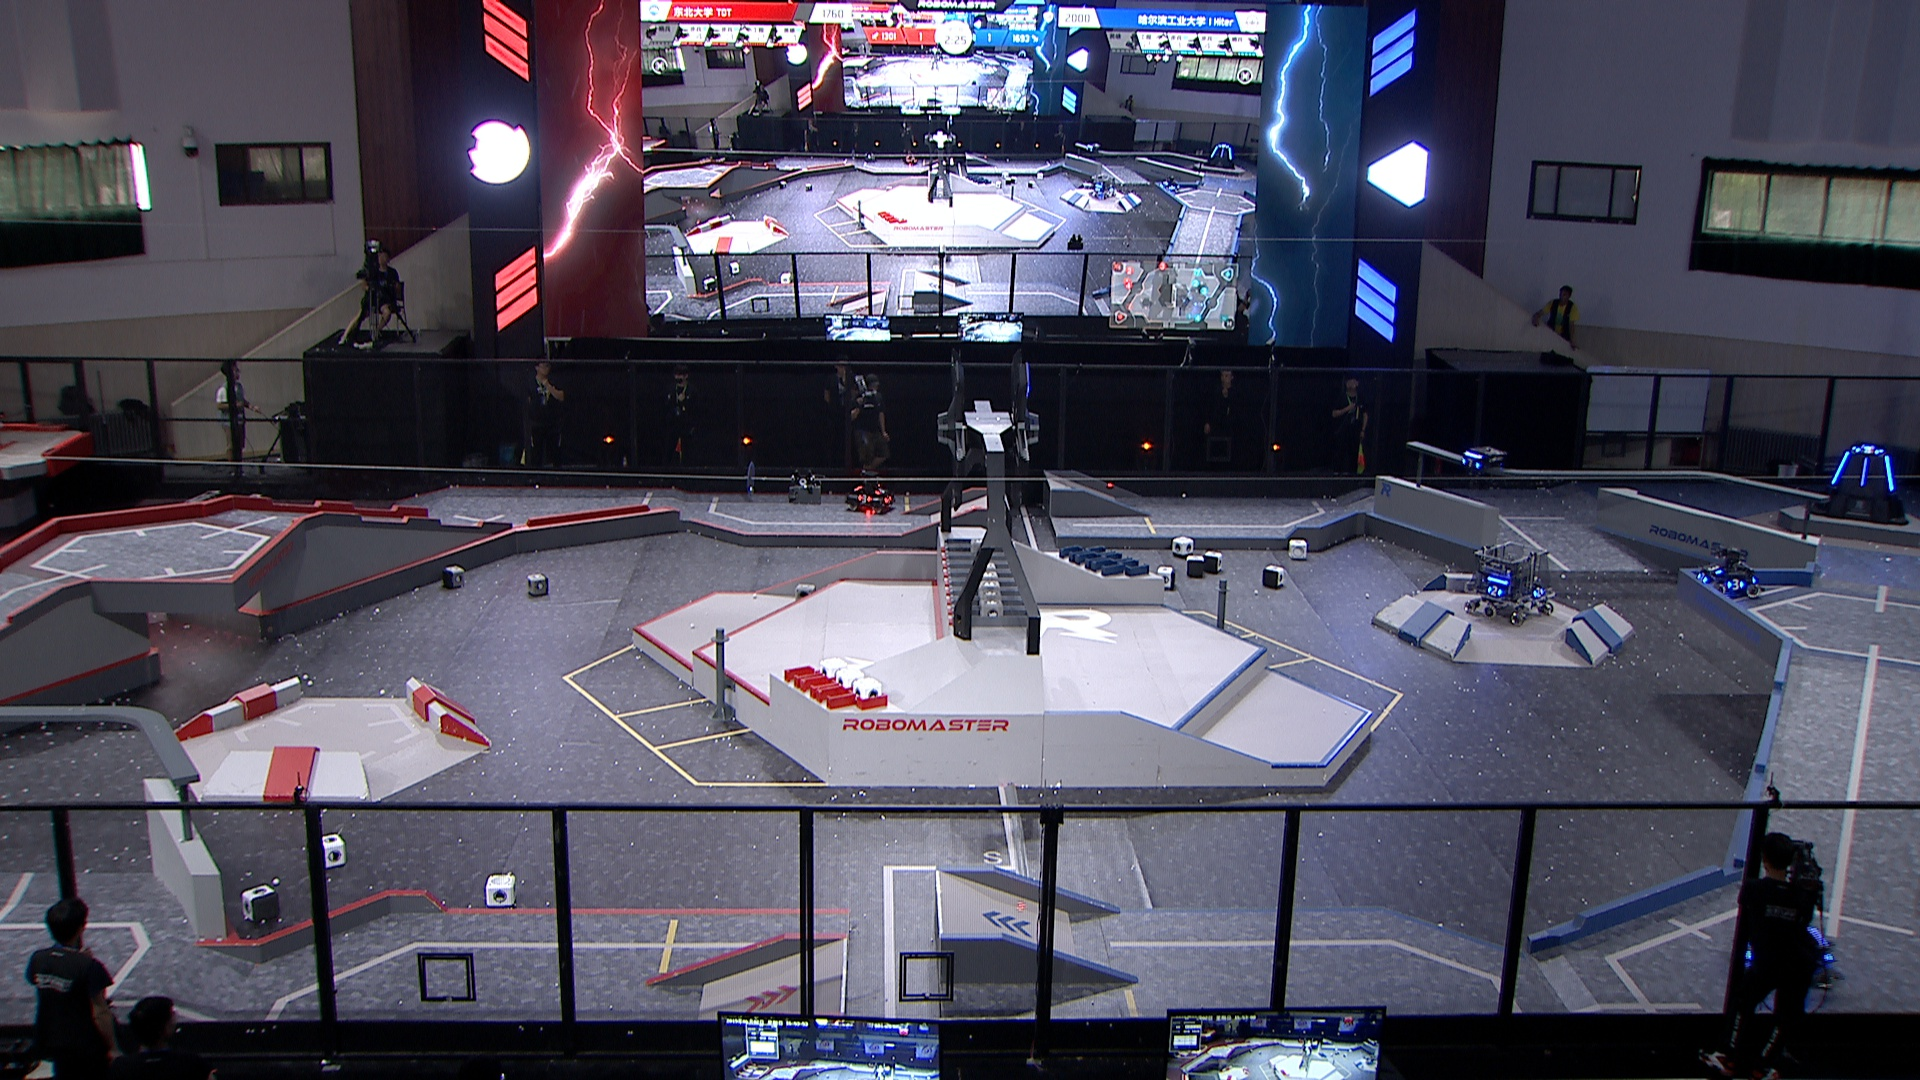armor: (1826, 450, 1851, 487), (1882, 455, 1898, 495), (1851, 443, 1882, 458), (1458, 454, 1482, 472), (1726, 575, 1747, 593), (1487, 583, 1503, 603), (1859, 455, 1869, 488), (855, 491, 874, 505), (1695, 570, 1712, 585), (1704, 560, 1724, 574), (872, 484, 887, 498), (1532, 584, 1545, 600)
base: (1804, 438, 1915, 527)
car: (1738, 909, 1841, 997), (1462, 541, 1557, 626), (1691, 546, 1764, 603), (847, 465, 894, 516)
ignore: (1201, 138, 1240, 171), (1087, 171, 1120, 200), (1159, 171, 1183, 196), (1077, 138, 1102, 161)
watcher: (1455, 438, 1509, 489)
